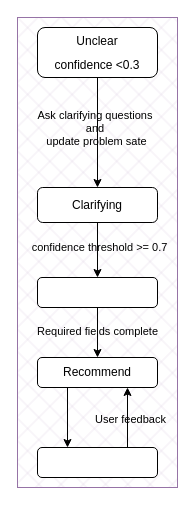
Some shapes in this 195 by 505 pixel diagram are drawn without their labels. The shapes that lost their labels are listed below. From the top down, each one's centre as x and y in pixels, then its label:
At pixel 97 292: "Ready".
At pixel 97 462: "Refine".
